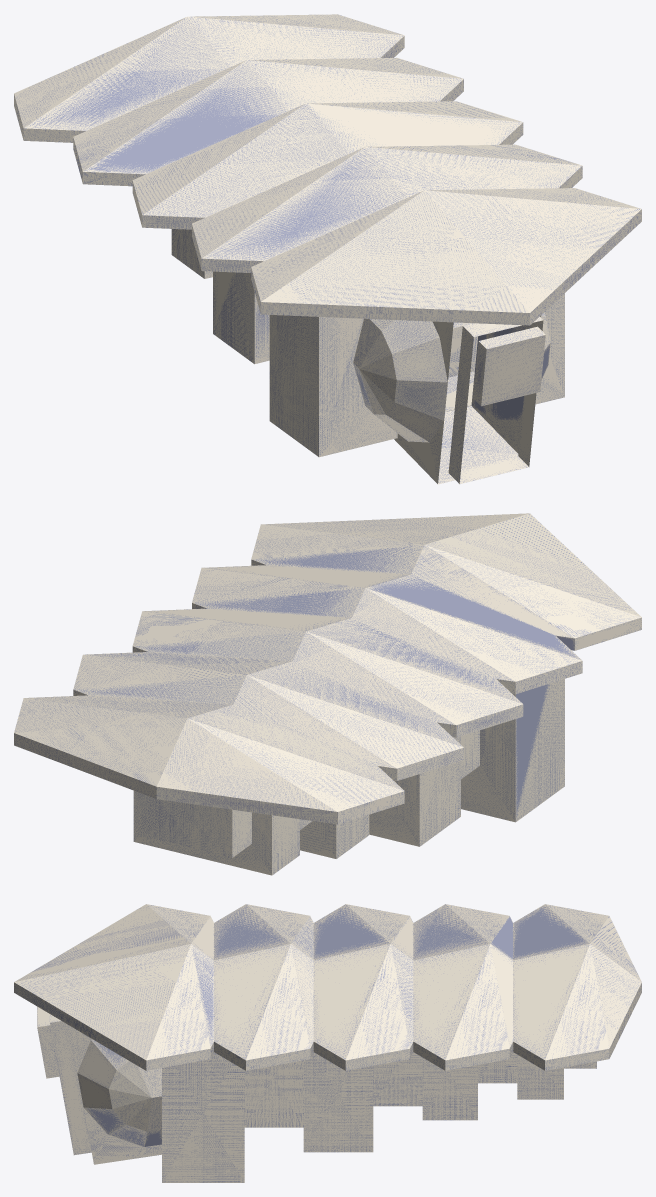
Rendered from Freeborn2.dae.
3 views of the same model, one above another, from view 1: azimuth 30°, elevation 25°; view 2: azimuth 150°, elevation 25°; view 3: azimuth 270°, elevation 25° (orthographic). The views are drawn at different scales.
Parts seen in each view (by area): view 1: SketchUp (×3); view 2: SketchUp; view 3: SketchUp (×3).
Part boxes in pixels (box(x1,y1,x2,y2)): SketchUp (×3): box(14, 14, 641, 484); SketchUp: box(14, 513, 641, 875); SketchUp (×3): box(14, 904, 641, 1182).
Size of the model in its own units: 44.88 by 76.16 by 27.13.
